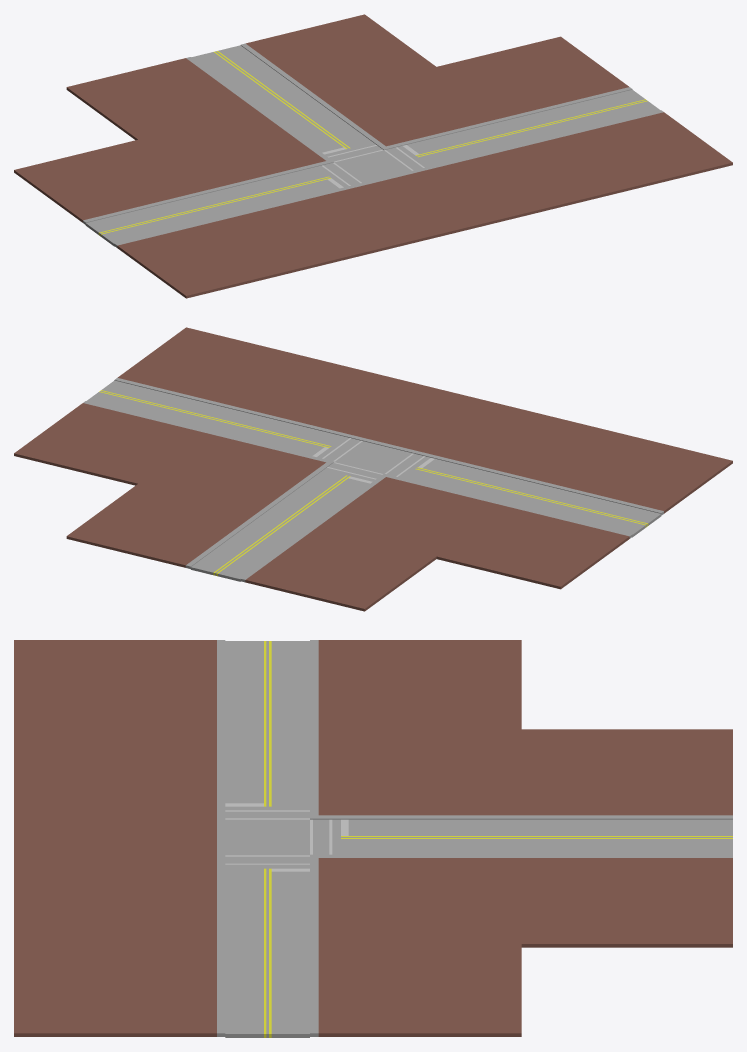
File: Road_Intersection.fbx
3 views of the same model, one above another, from view 1: azimuth 30°, elevation 25°; view 2: azimuth 150°, elevation 25°; view 3: azimuth 270°, elevation 25° (orthographic). The views are drawn at different scales.
Parts seen in each view (by area): view 1: pCube32, pCube17, pCube16, pCube33; view 2: pCube32, pCube17, pCube16, pCube33; view 3: pCube32, pCube16, pCube17, pCube33.
Boxes of the visible parts, bbox=[...] form: pCube32: bbox=[114, 110, 732, 298]; pCube17: bbox=[14, 57, 333, 224]; pCube16: bbox=[240, 14, 632, 150]; pCube33: bbox=[85, 45, 660, 246]; pCube32: bbox=[114, 327, 732, 515]; pCube17: bbox=[240, 473, 632, 611]; pCube16: bbox=[14, 401, 333, 568]; pCube33: bbox=[87, 380, 661, 581]; pCube32: bbox=[14, 640, 225, 1036]; pCube16: bbox=[310, 854, 732, 1036]; pCube17: bbox=[310, 640, 732, 819]; pCube33: bbox=[225, 641, 732, 1037].
Bounding box in the file's own units: 220 × 1.23 × 170.
